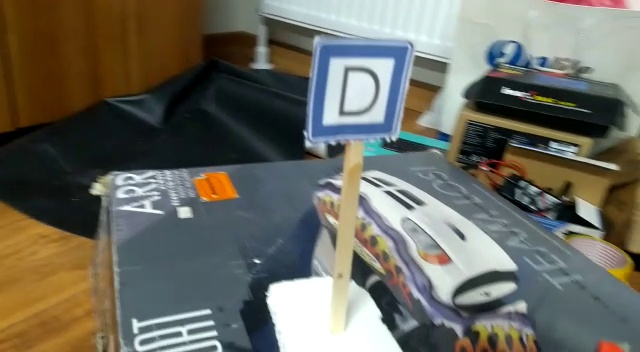durak: (315, 61, 411, 141)
